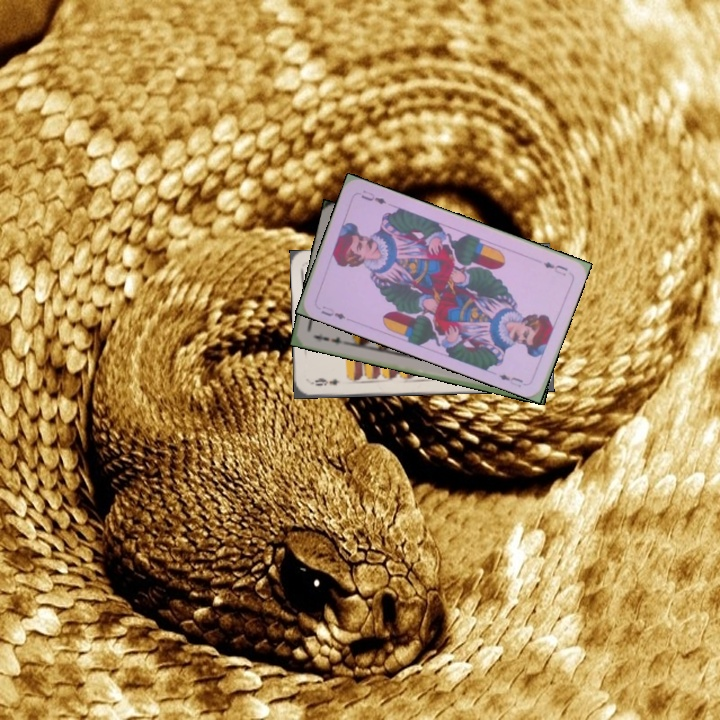E7: (309, 329, 347, 347)
E9: (308, 374, 341, 388)
EU: (317, 302, 348, 322), (539, 258, 570, 278)
